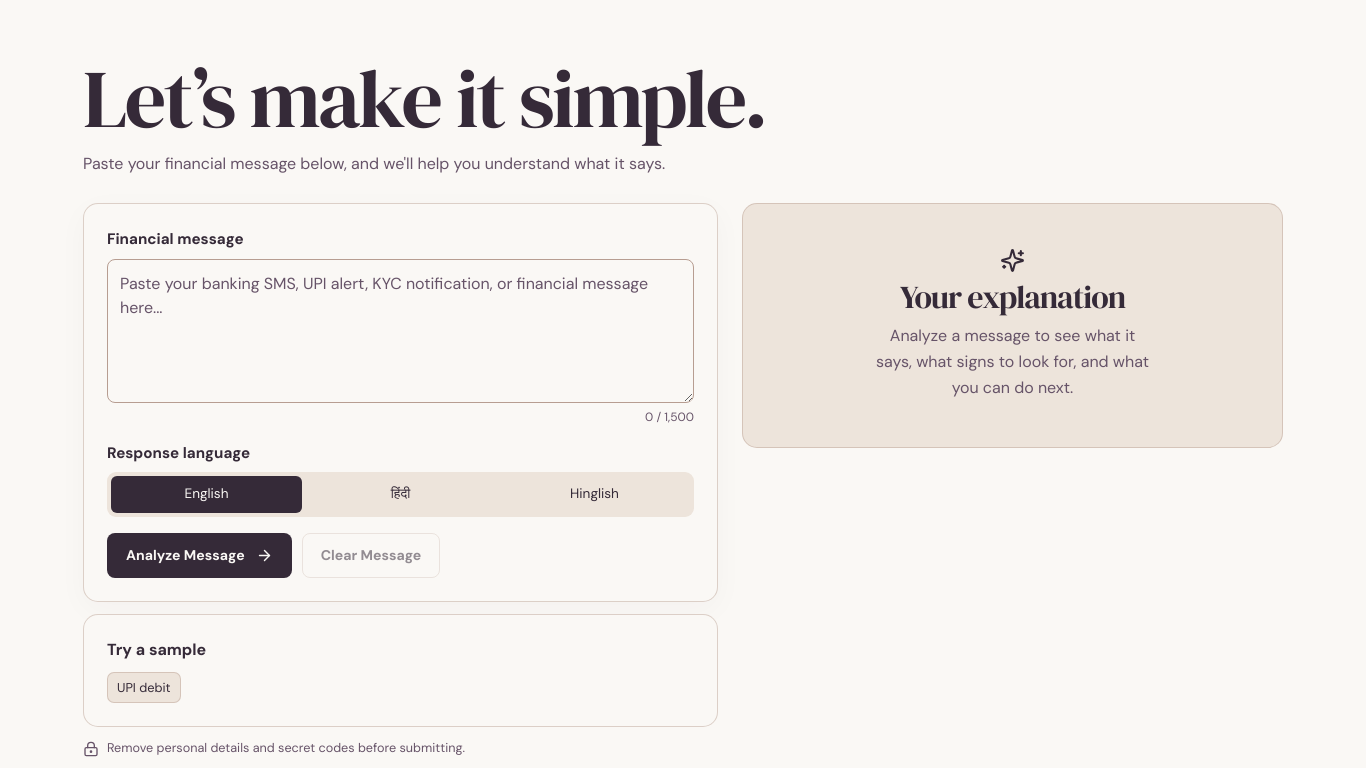
disables duplicate submissions while waiting
Click the button "UPI debit": click(144, 687) [107, 672, 181, 703]
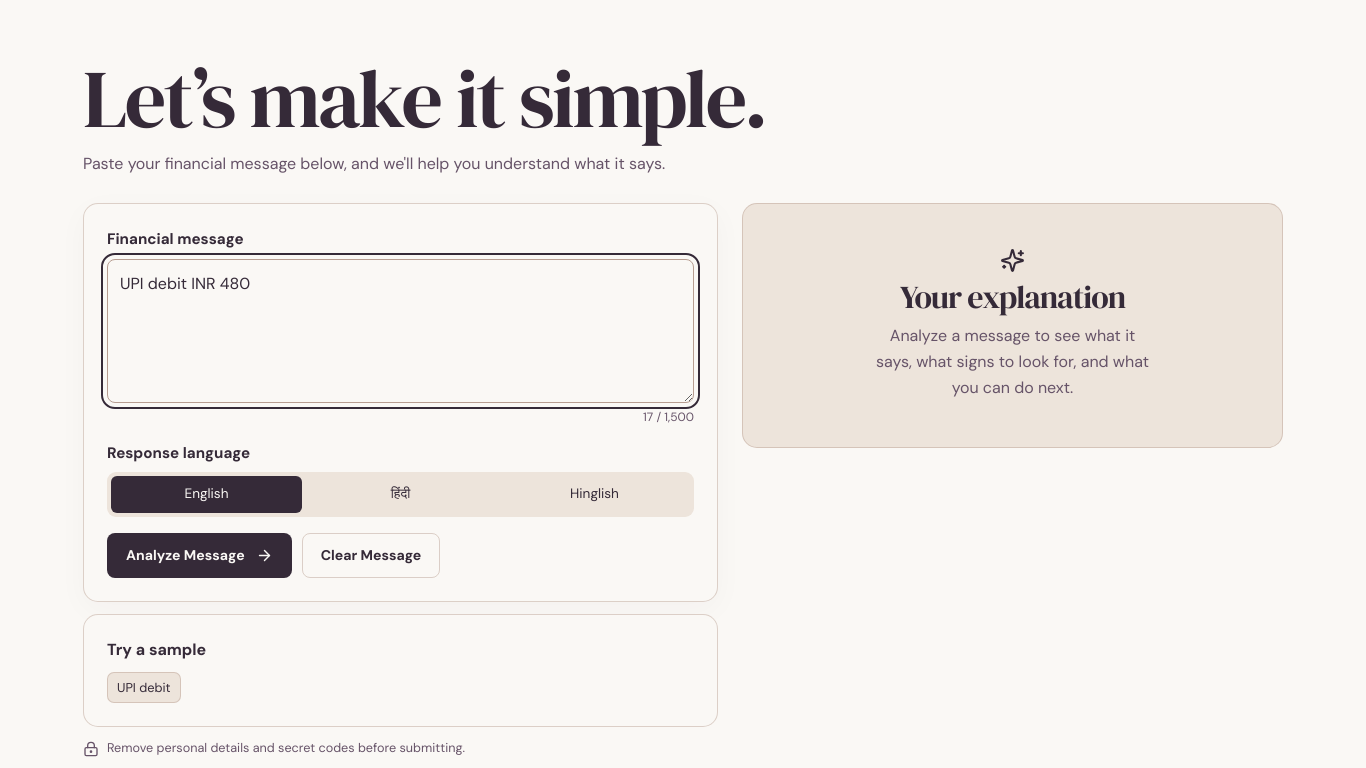
Click the button "Analyze Message": click(199, 555) [107, 533, 292, 578]
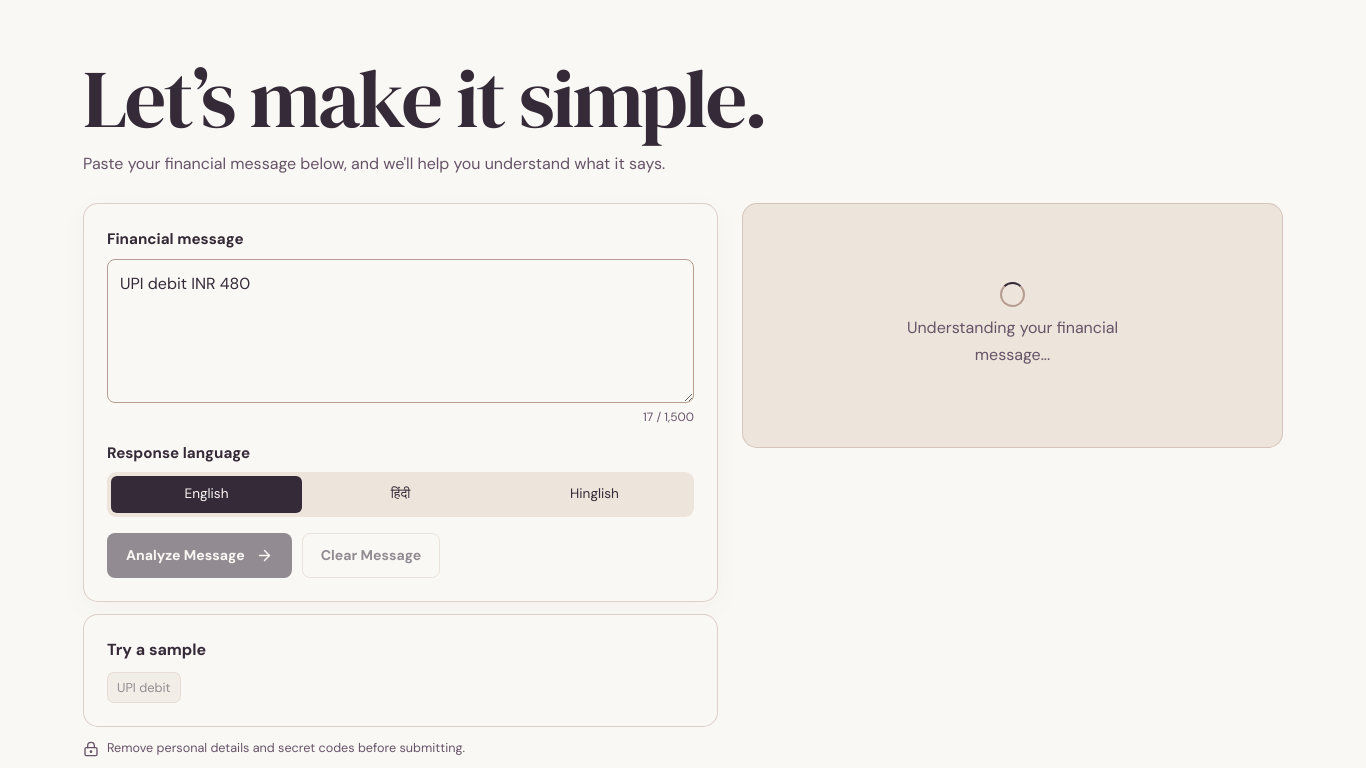
Now the button "Analyze Message" is disabled
Now the message shows "Understanding", box [907, 317, 1118, 365]
Click the button "Analyze Message": click(199, 555) [107, 533, 292, 578]
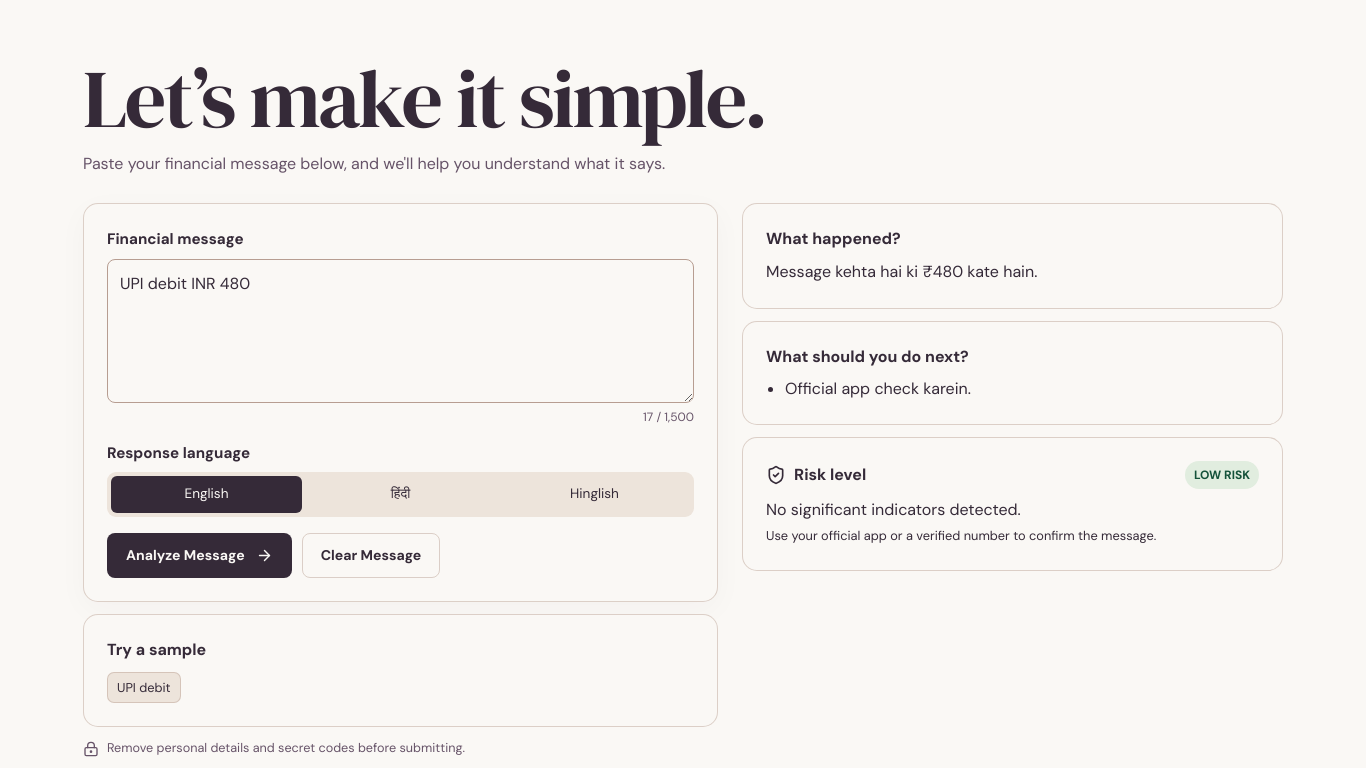
Now the text "Message kehta hai ki ₹480 kate hain." is shown, box [766, 261, 1037, 282]
Now the button "Analyze Message" is enabled, box [107, 533, 292, 578]
